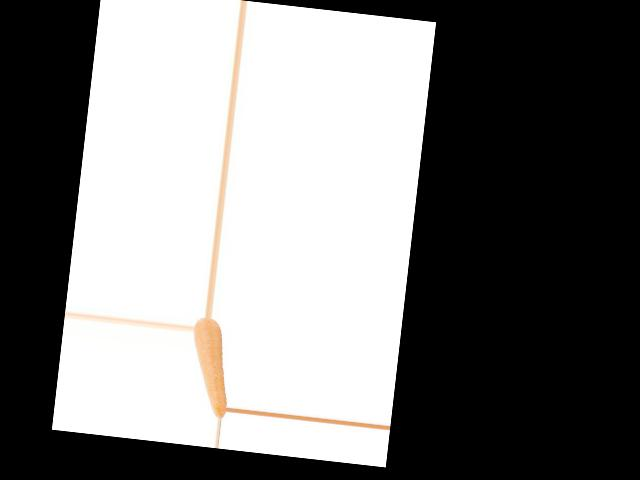carrot: (185, 316, 236, 418)
